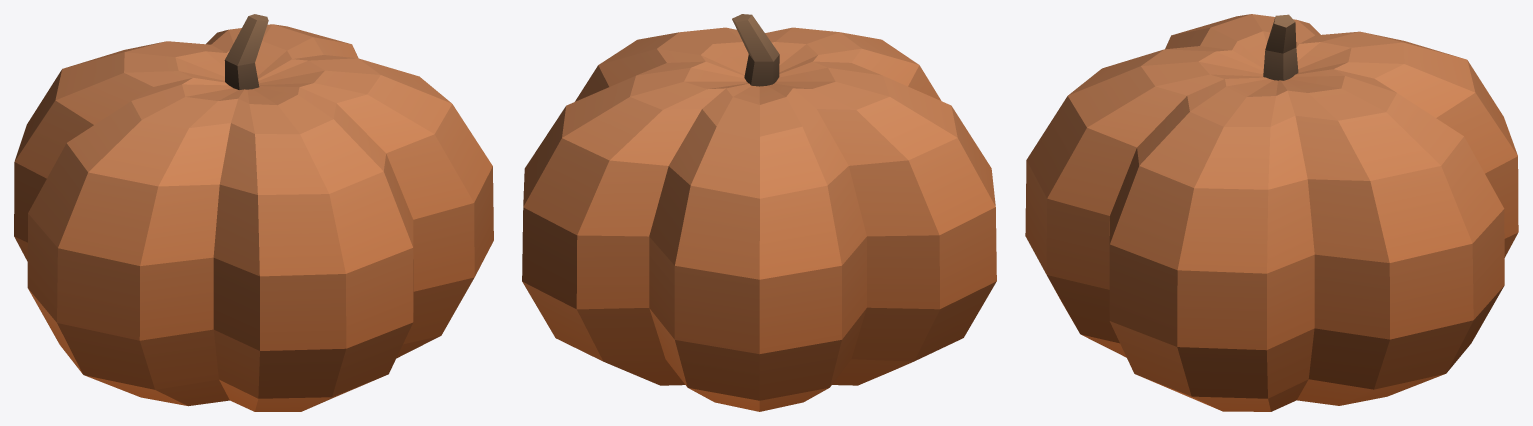
The model's file is pumpkin-brown.glb.
3 renders of one model, left to right at view 1: azimuth 30°, elevation 25°; view 2: azimuth 150°, elevation 25°; view 3: azimuth 270°, elevation 25°, orthographic. The views are drawn at different scales.
Parts seen in each view (by area): view 1: pumpkin brown; view 2: pumpkin brown; view 3: pumpkin brown.
Part boxes in pixels (x1,y1,x2,y2): pumpkin brown: (14, 14, 493, 411); pumpkin brown: (522, 14, 996, 411); pumpkin brown: (1025, 14, 1518, 411).
Size of the model in its own units: 0.5791 by 0.4594 by 0.5765.
1 material, 1 textured.
